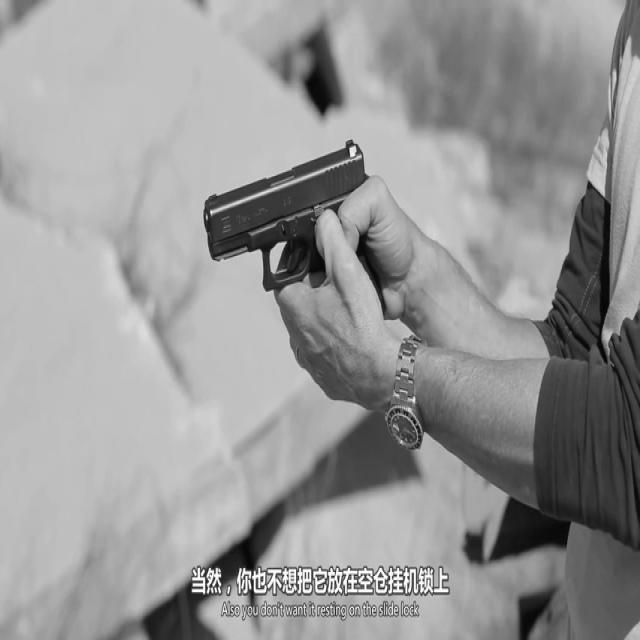Hand-Gun: (176, 73, 480, 486)
